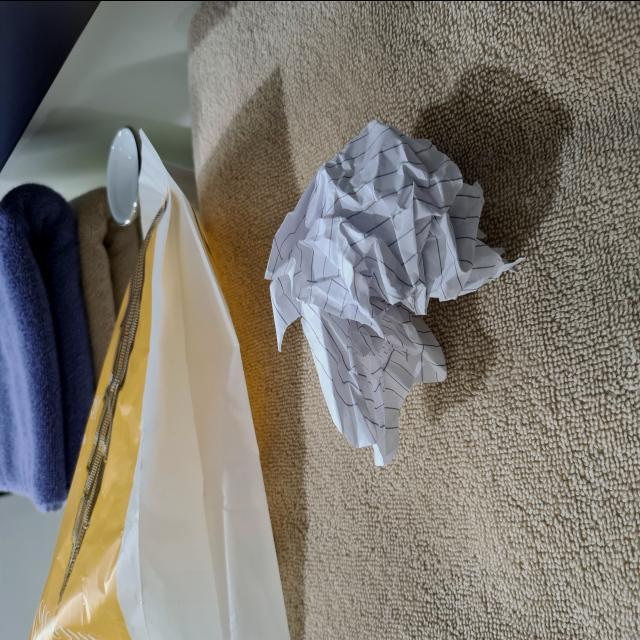Paper: (261, 110, 514, 492)
